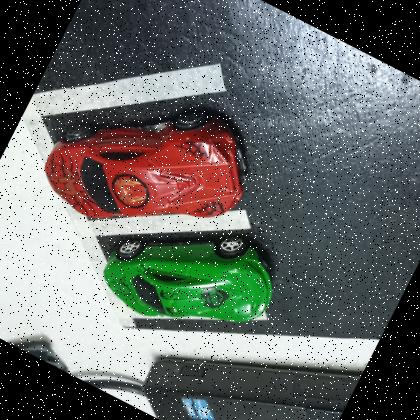Car: (29, 55, 270, 278), (91, 188, 291, 366)
